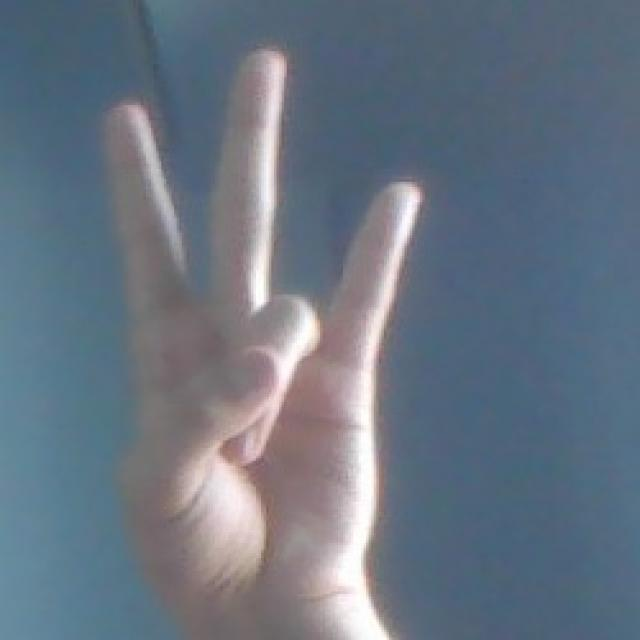Numeric-7: (105, 46, 424, 610)
